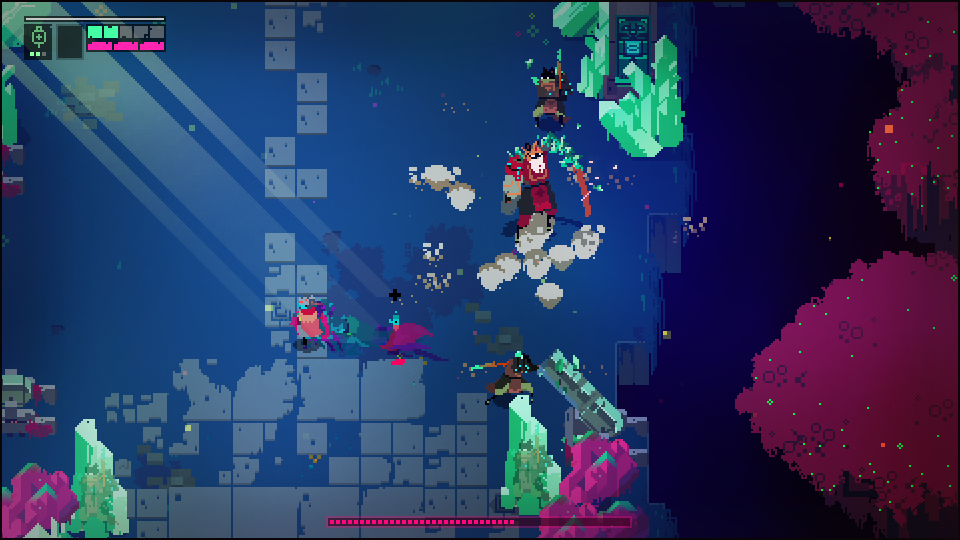hanged_man: (493, 123, 597, 242)
player: (293, 290, 325, 351)
